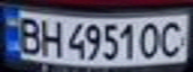1: (118, 20, 139, 60)
4: (63, 20, 87, 60)
5: (100, 20, 121, 61)
9: (81, 20, 103, 61)
B: (12, 15, 45, 55)
C: (157, 17, 190, 57)
H: (36, 17, 63, 56)
O: (136, 19, 163, 60)
